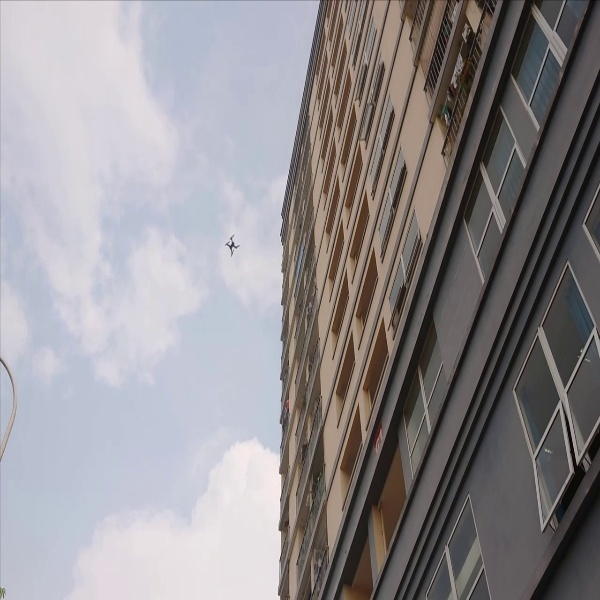drone: (216, 231, 247, 261)
